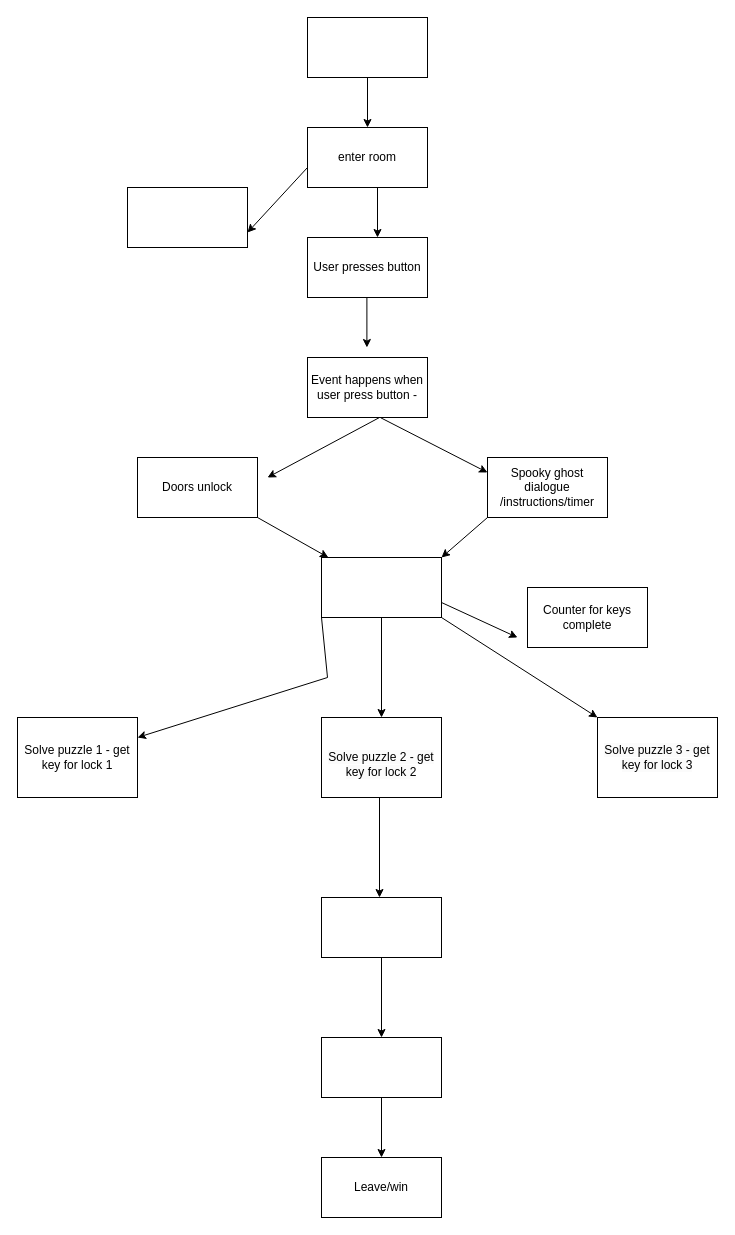
The diagram is 735 pixels wide and 1235 high, and some of its shapes have lost their labels. The shapes that lost their labels are listed below. From the top down, each one's centre as x and y in pixels, then its label:
the point at 367,47: Press green paly button
the point at 187,217: Rooms cannot be entered until user press button
the point at 381,587: MIddle room has a door with 3 locks
the point at 381,927: Return to middle room
the point at 381,1067: Use keys on each lock (drag/drop?)
